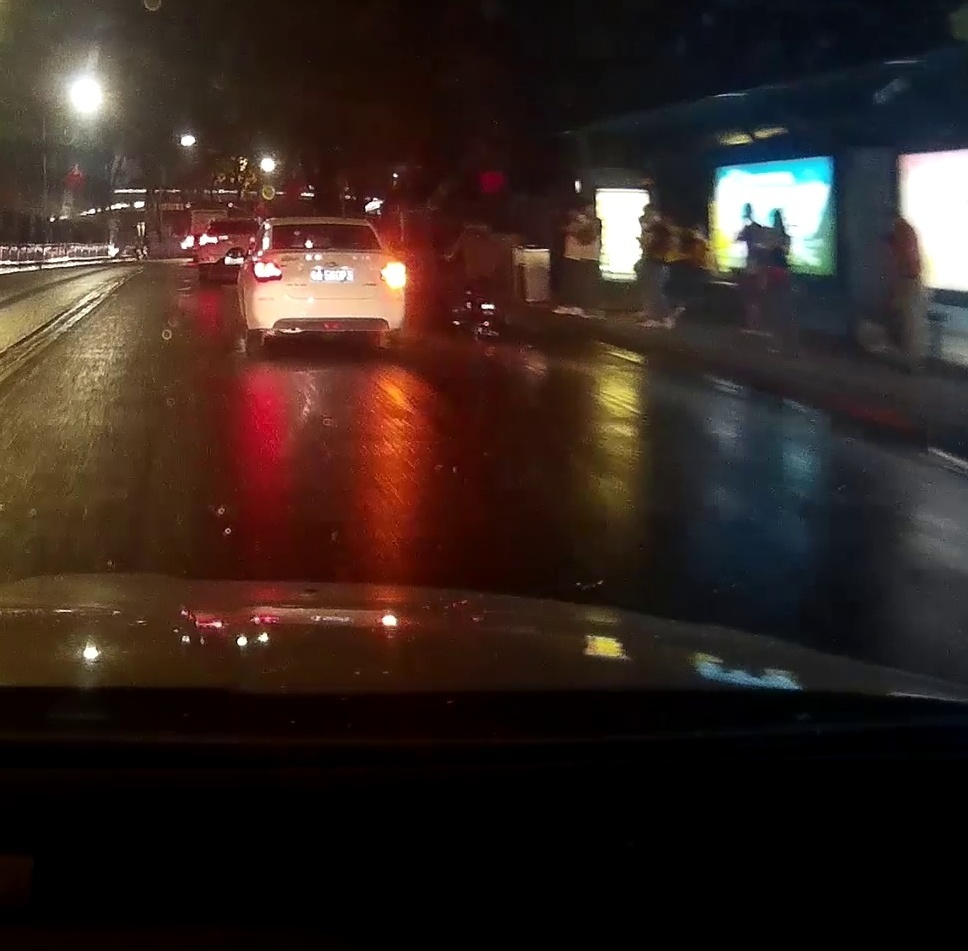L_light: (252, 261, 282, 283)
R_light: (379, 264, 406, 282)
T_light: (317, 224, 338, 228)
night-right: (242, 216, 407, 354)
